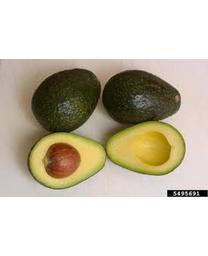avocado: (26, 130, 106, 191), (31, 68, 102, 135), (102, 69, 182, 126), (105, 120, 185, 177)
